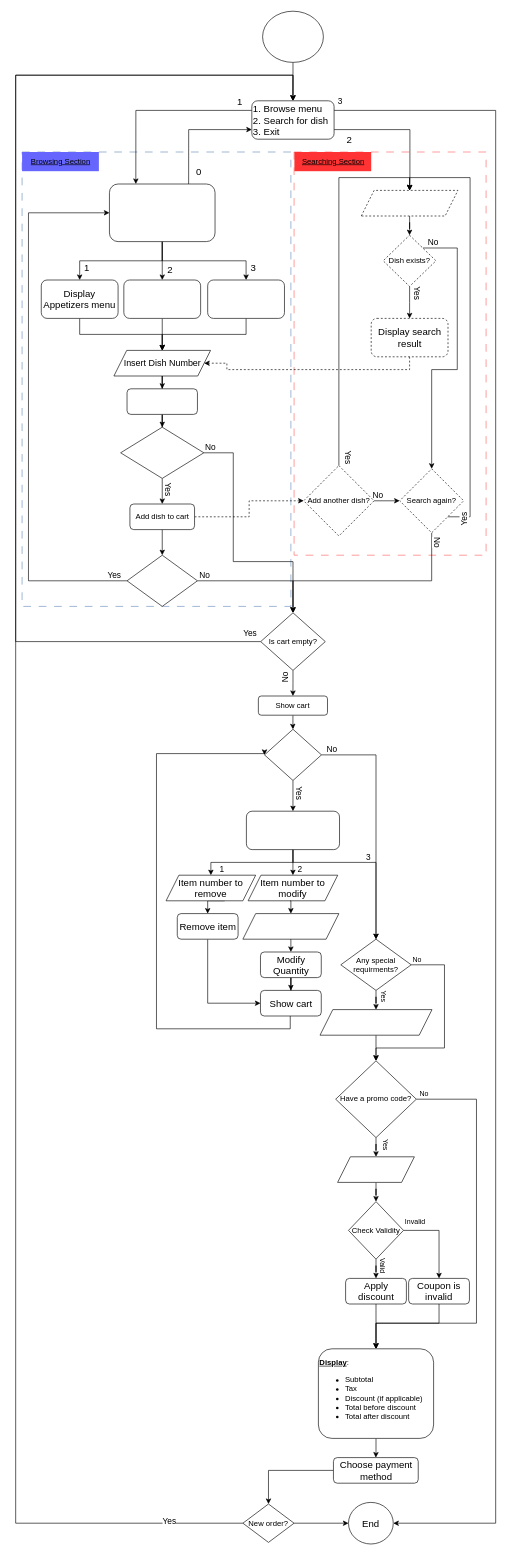
Some shapes in this 512 by 1555 pixel diagram are drawn without their labels. Here are the shapes that lost their labels. From the top down, the centre of each, then its label:
(x=292, y=36): Start
(x=162, y=212): 1. Appetizers 2. Main Course 3. Desserts 0. Return to main menu
(x=409, y=203): Insert Dish Name
(x=162, y=298): Display Main Course menu
(x=245, y=298): Display Desserts menu
(x=161, y=401): Display dish details
(x=162, y=452): Add dish to cart?
(x=161, y=580): Keep browsing?
(x=292, y=754): Modify cart?
(x=293, y=830): 1. Modify item quantity 2. Remove item 3. Confirm order
(x=290, y=926): Quantity to modify
(x=375, y=1022): Special Requirements
(x=375, y=1169): Promo code
